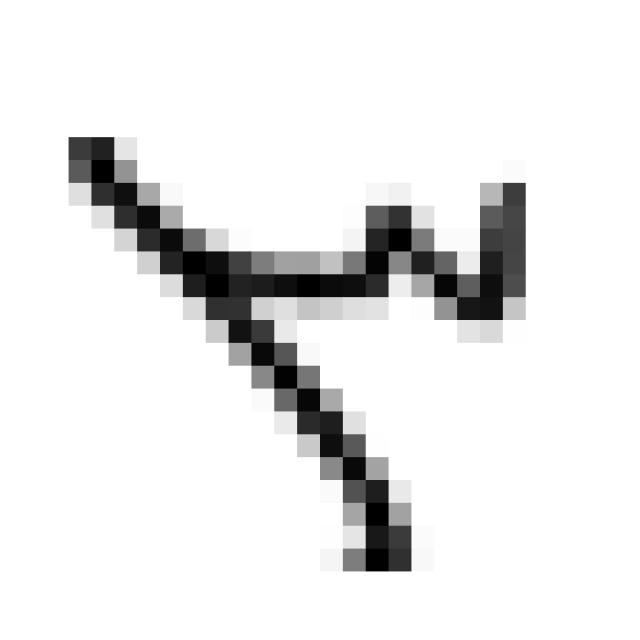3 -three-: (48, 105, 555, 604)
